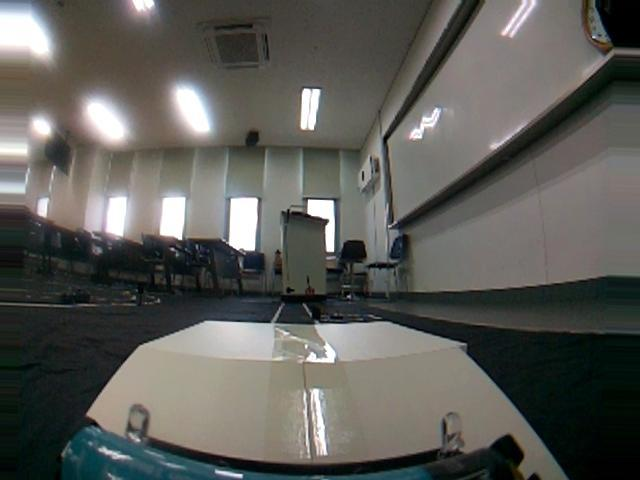hill_up: (5, 303, 640, 477)
